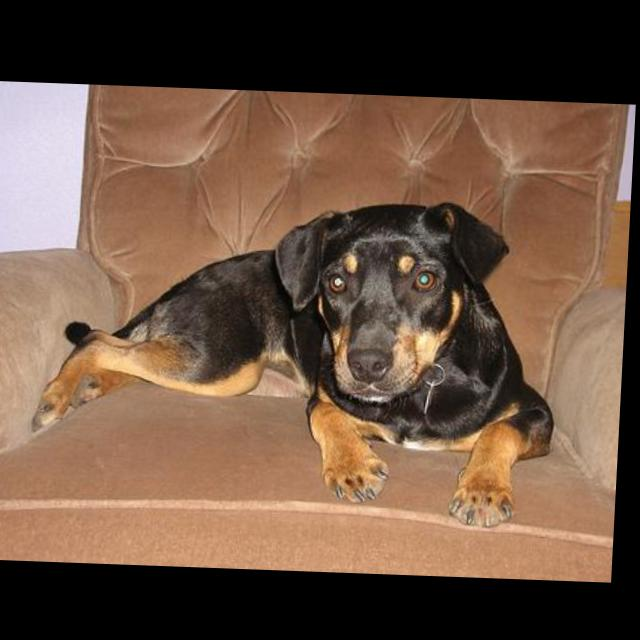rottweiler: (34, 186, 570, 526)
